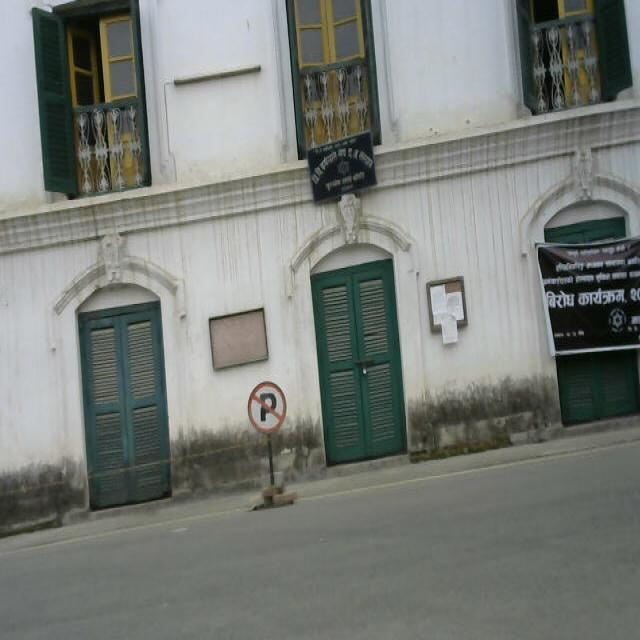Buildings: (0, 5, 640, 474)
NoParking: (236, 383, 307, 525)
Road: (0, 486, 640, 640)
